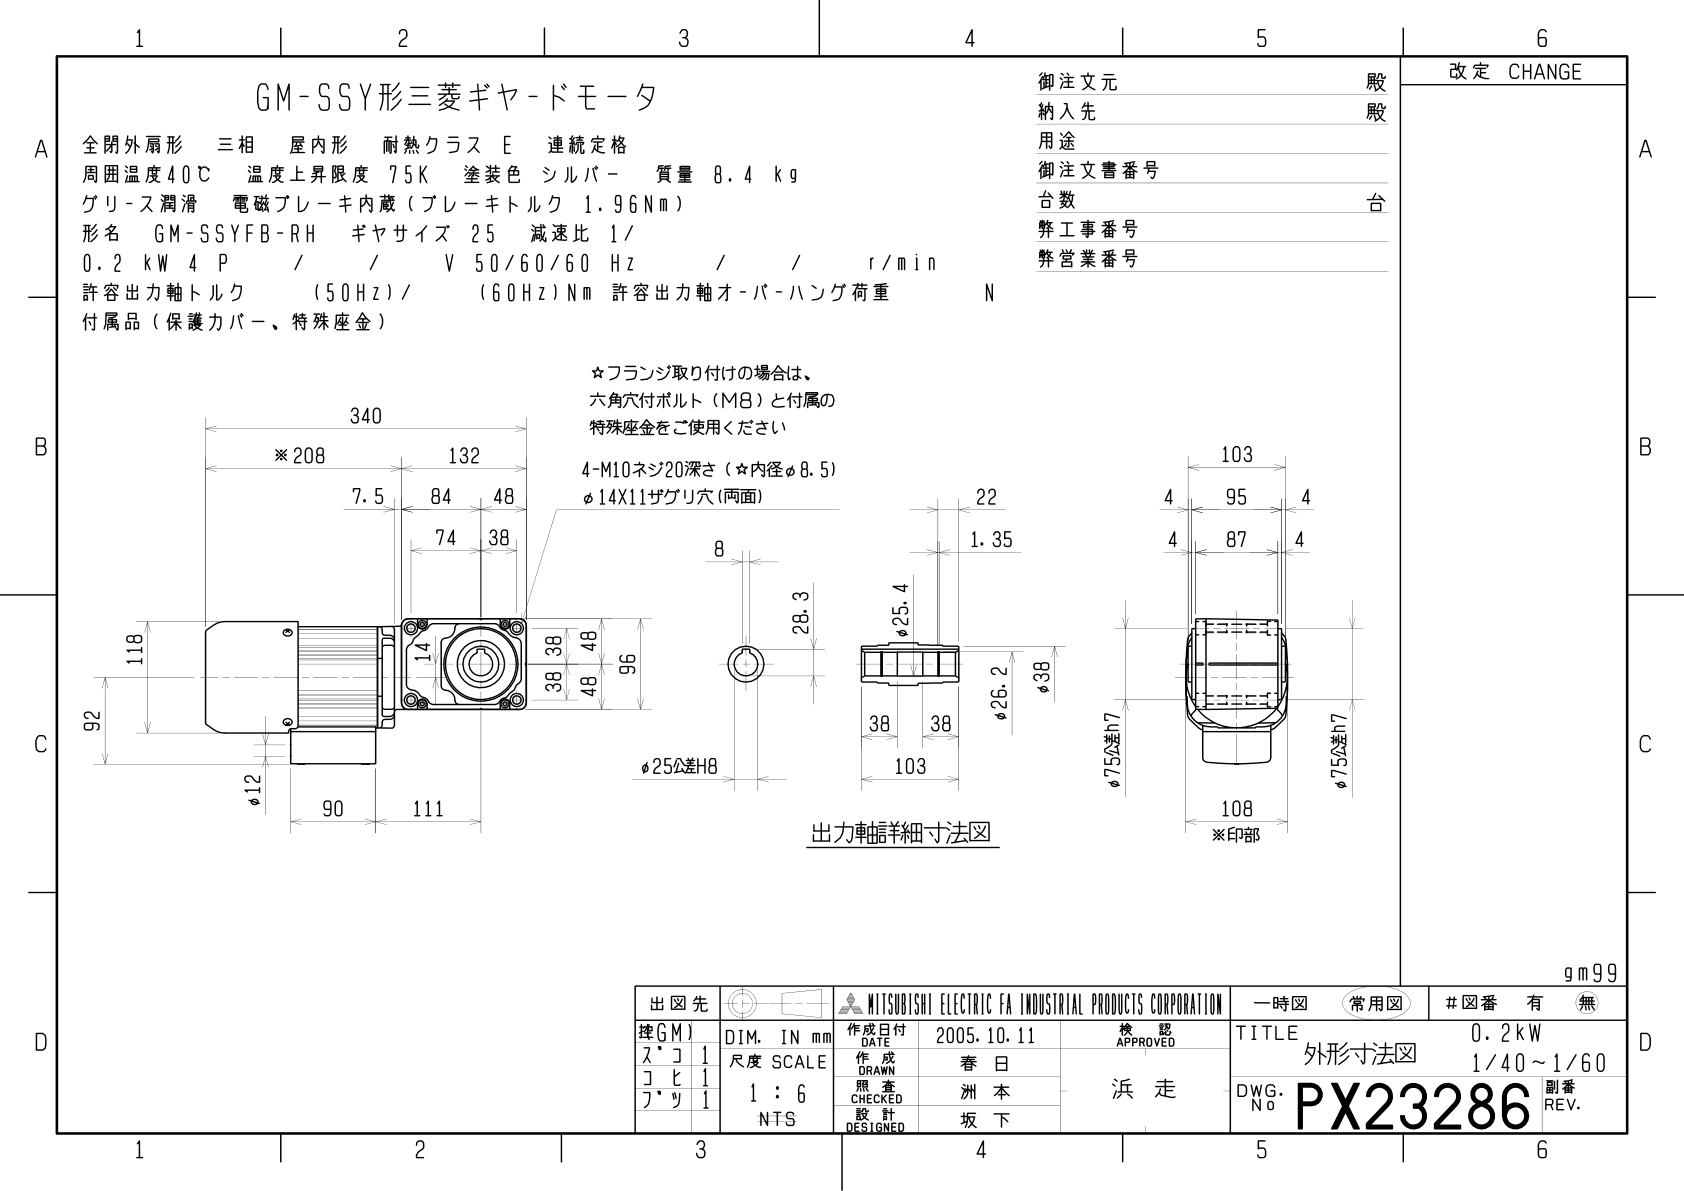GM_SSY_屋内_三相: (1, 1, 1678, 1172)
